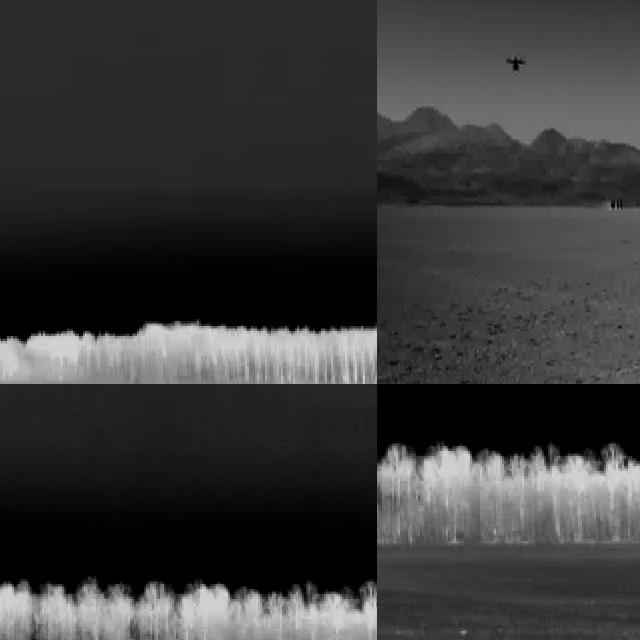drone: (501, 52, 532, 76)
